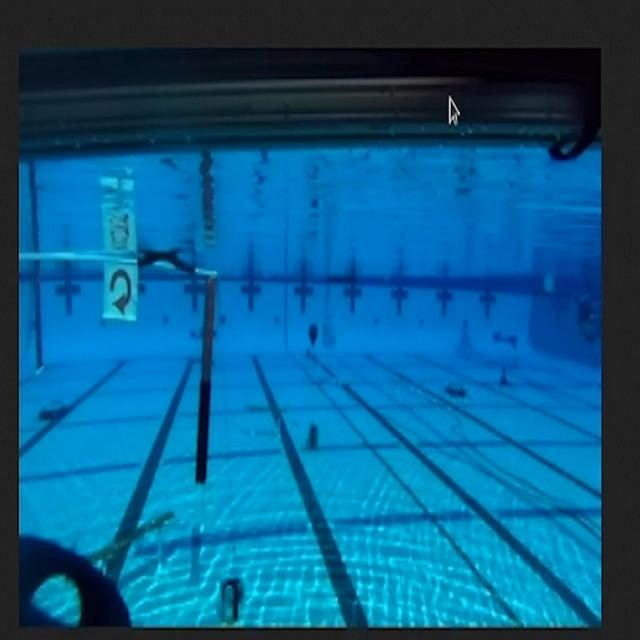Gate: (18, 238, 229, 491)
Path: (70, 505, 178, 569)
